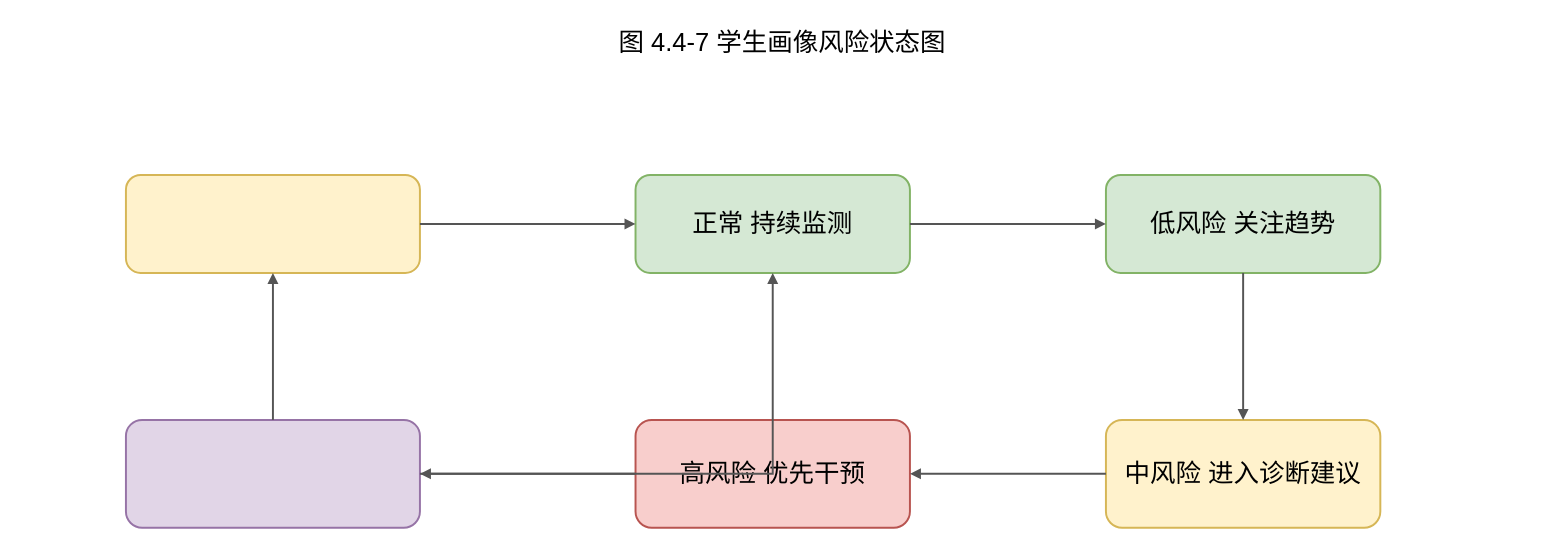
The diagram is 1564 pixels wide and 545 high, and some of its shapes have lost their labels. Here are the shapes that lost their labels. From the top down, the centre of each, then its label:
(x=272, y=223): 数据不足 提示补充证据
(x=272, y=473): 画像更新中 重新计算状态
